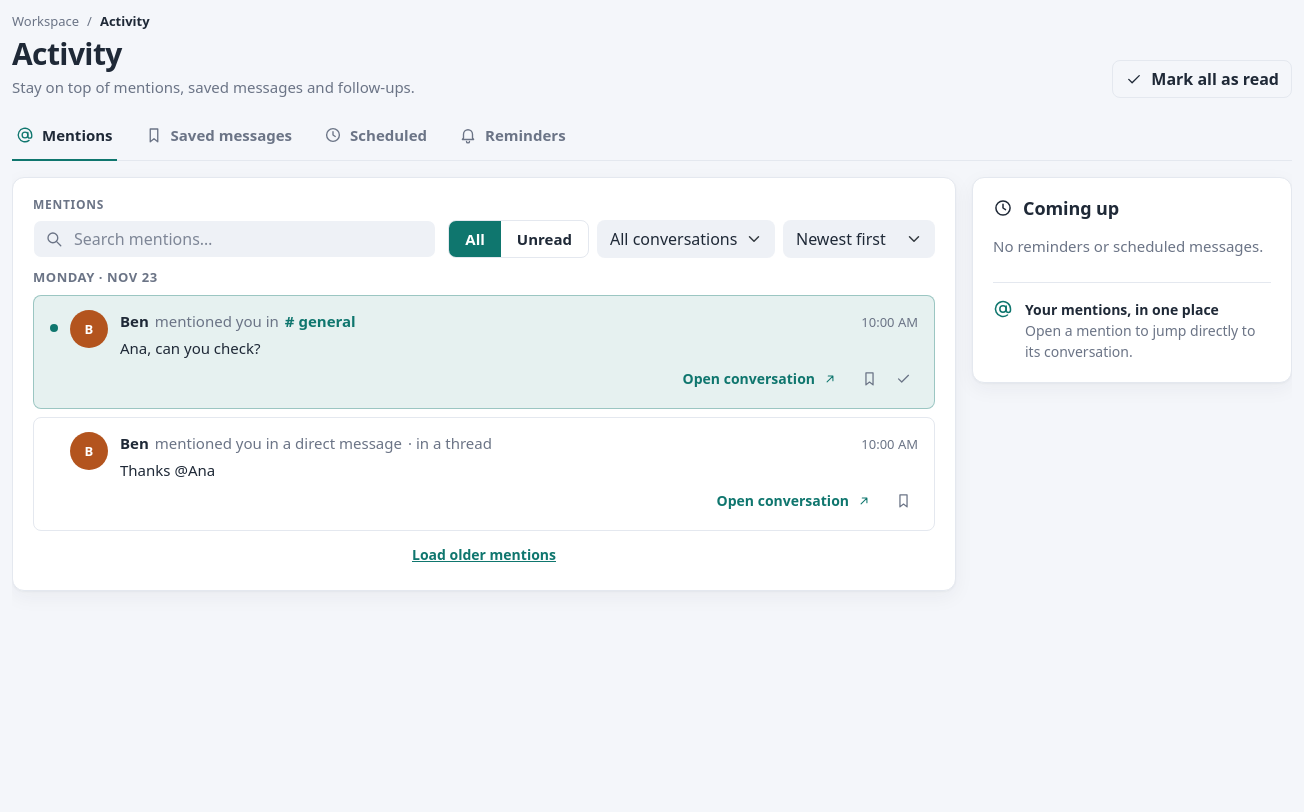
Test: MentionsPage › lists mentions with their place and unread state, and loads older ones
Check: the text "Ana, can you check?" is shown, box [120, 338, 260, 358]
Check: the text "# general" is shown, box [285, 310, 356, 333]
Click the button "Load older mentions": point(484, 555) [403, 540, 565, 570]
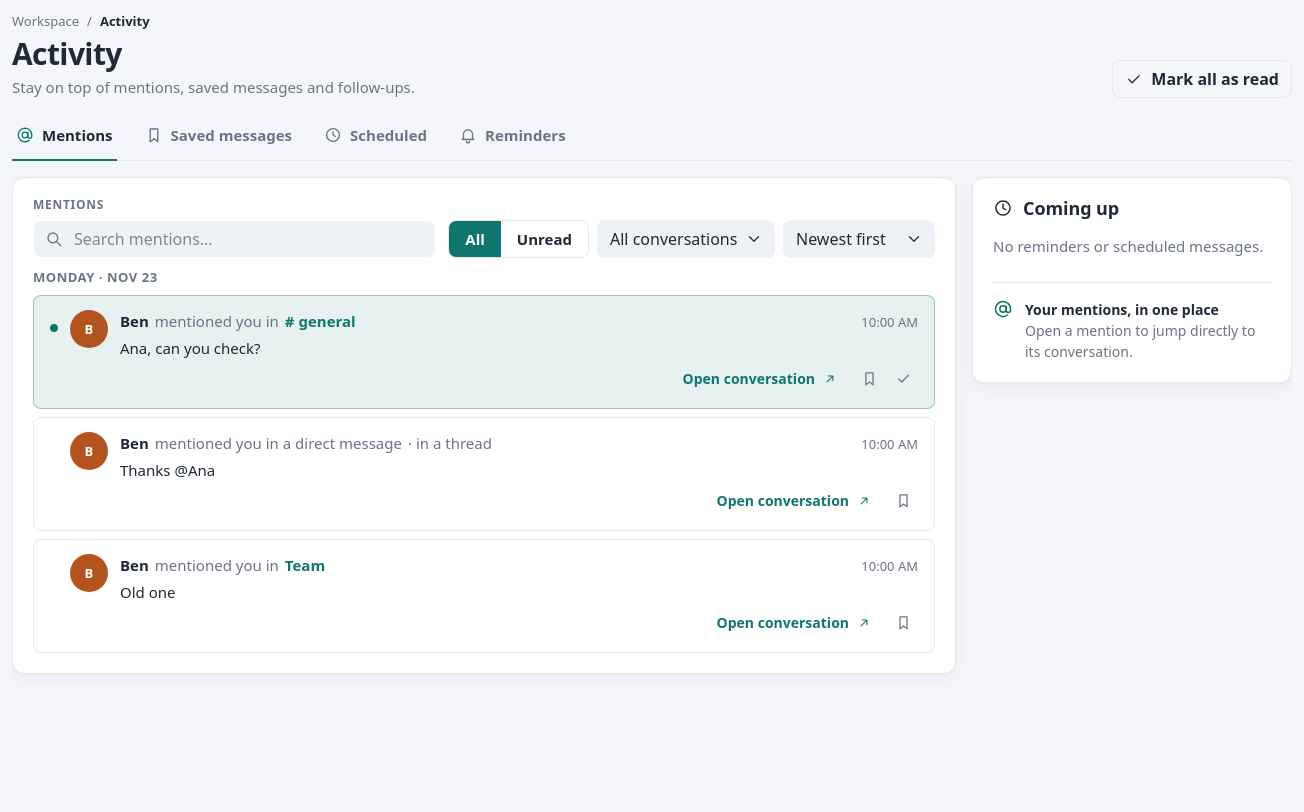
Check: the text "Old one" is shown, box [120, 582, 176, 602]
Check: the button "Load older mentions" is gone
